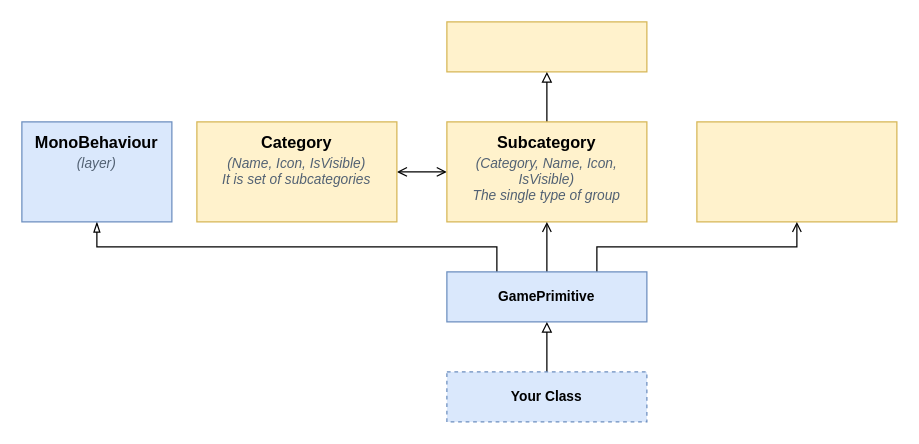
Some shapes in this 919 by 444 pixel diagram are drawn without their labels. Each missing label, with the box of its shape:
GameType (Name, Icon): (446, 21, 647, 72)
SelectionSet (Name, Icon, Color, IsVisible) A user defined set: (696, 121, 897, 222)
